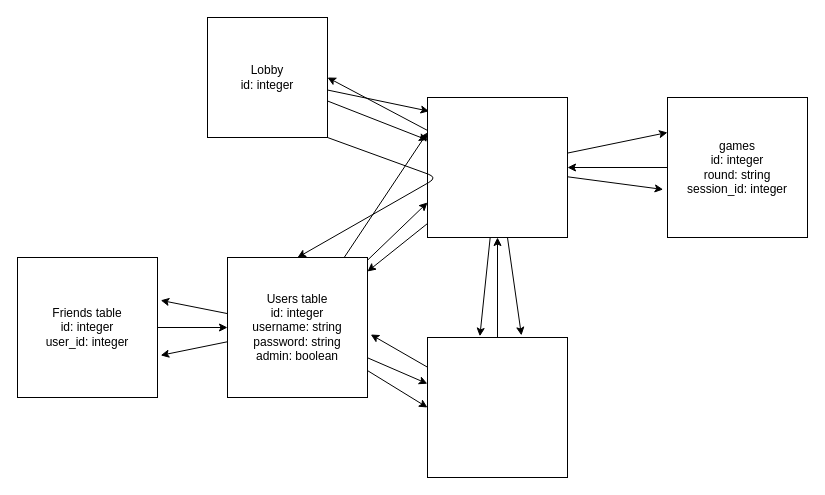
Some shapes in this 825 by 495 pixel diagram are drawn without their labels. The box of each missing label's shape, as (x1, y1, x2, y2) in pixels:
coins id: integer user_id: integer session_id: integer: (426, 336, 568, 478)
Session timer: datetime id: integer user_id: integer lobby_id :integer: (426, 96, 568, 238)
